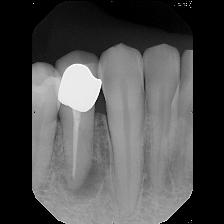apical_lesion: (53, 51, 107, 209)
